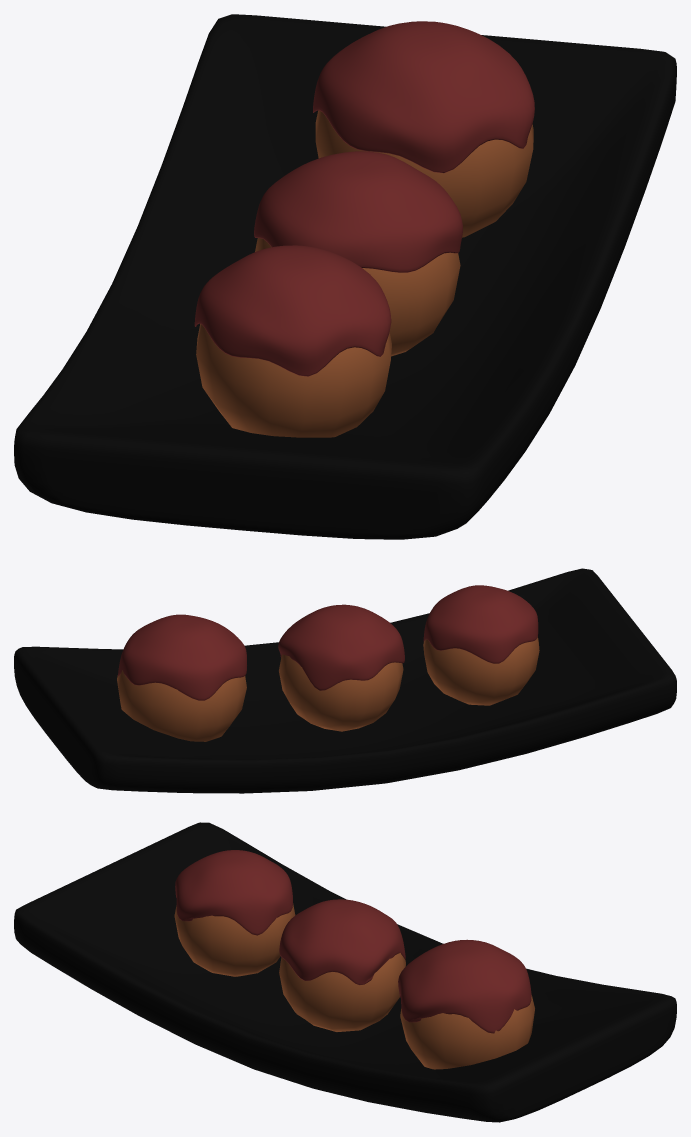
Rendered from platilloAlbondigas.fbx.
3 renders of one model, top to bottom at view 1: azimuth 30°, elevation 25°; view 2: azimuth 150°, elevation 25°; view 3: azimuth 270°, elevation 25°, orthographic. The views are drawn at different scales.
Visible parts, largest first — view 1: platilloAlbondigas; view 2: platilloAlbondigas; view 3: platilloAlbondigas.
Part boxes in pixels (x1,y1,x2,y2): platilloAlbondigas: (14, 14, 676, 539); platilloAlbondigas: (14, 568, 676, 793); platilloAlbondigas: (14, 822, 676, 1122).
Size of the model in its own units: 67.66 by 16.86 by 70.66.
